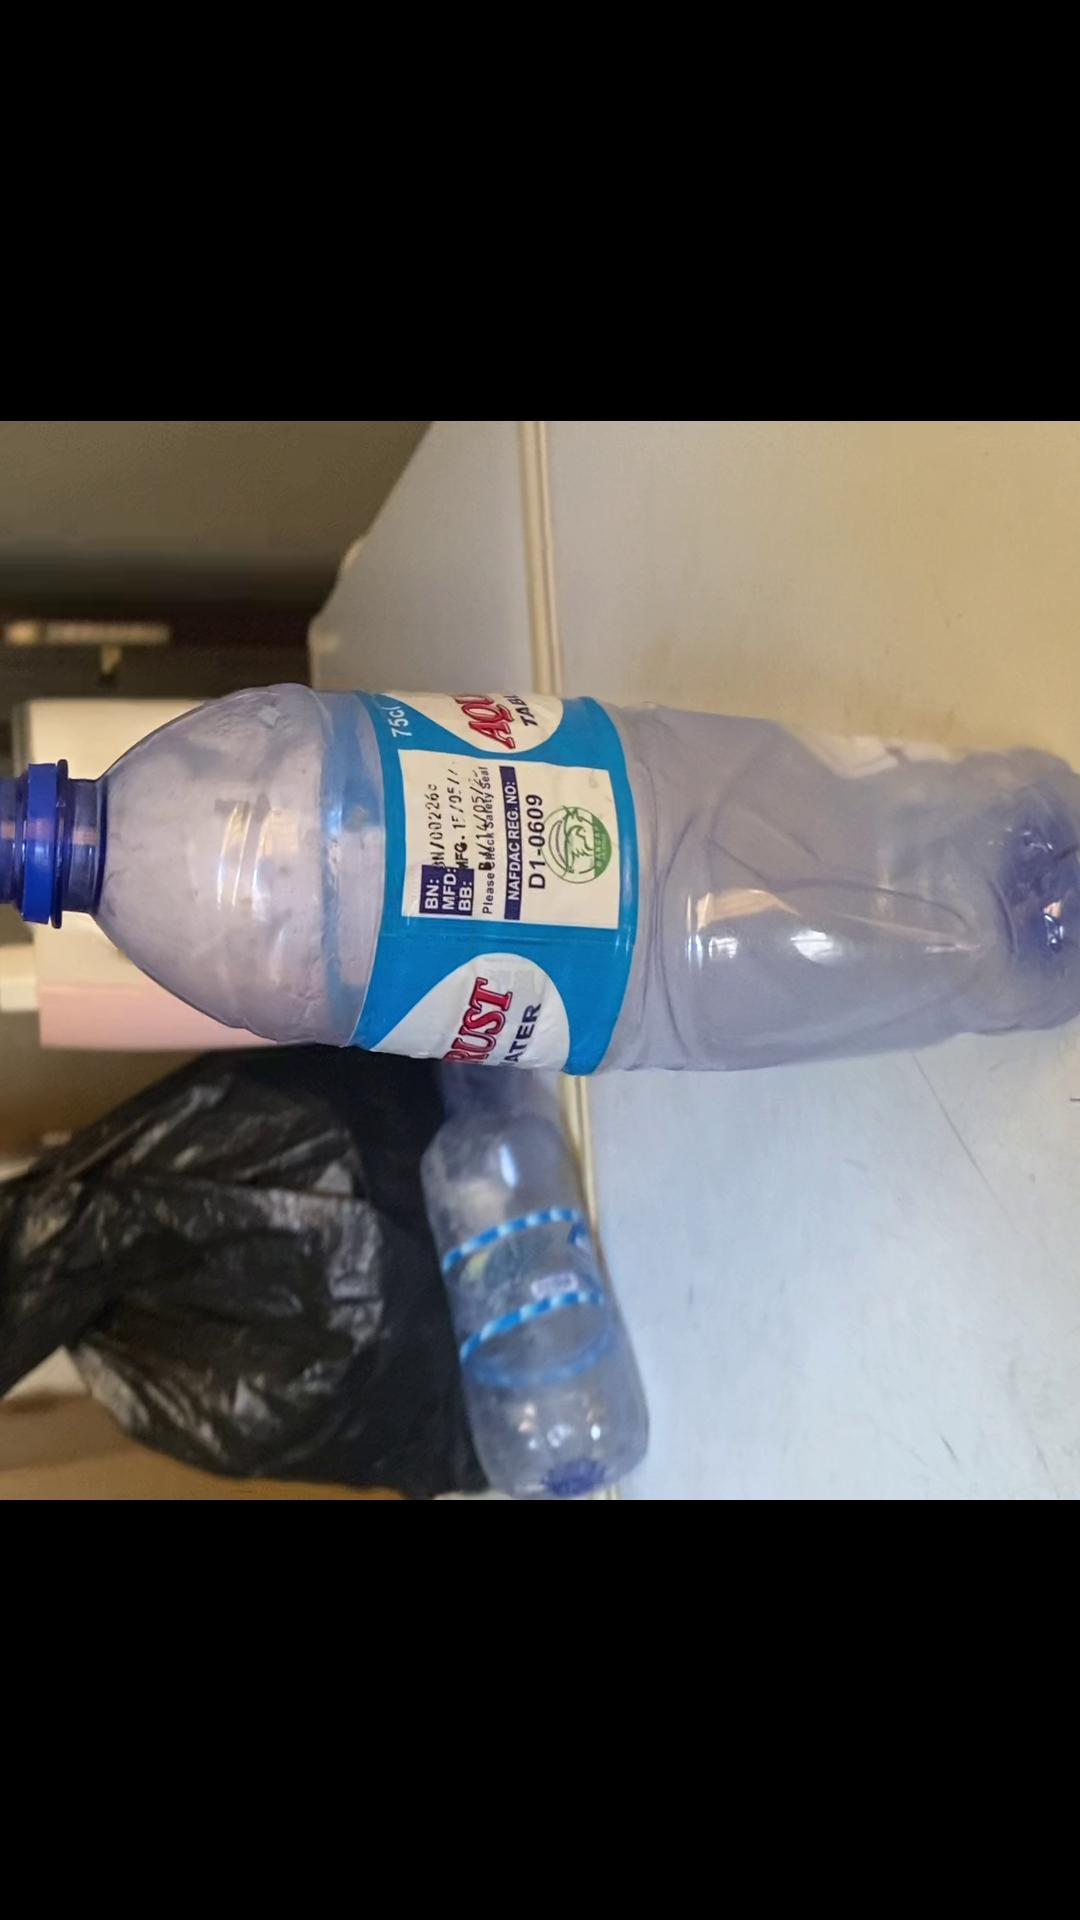crumbled: (0, 669, 1080, 1076)
label: (364, 686, 622, 1056)
no-cap: (0, 745, 57, 928)
